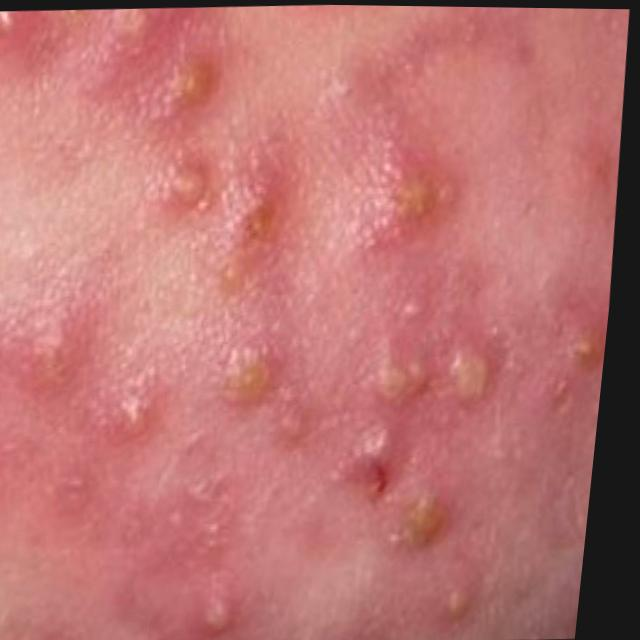pustule: (128, 24, 615, 634)
